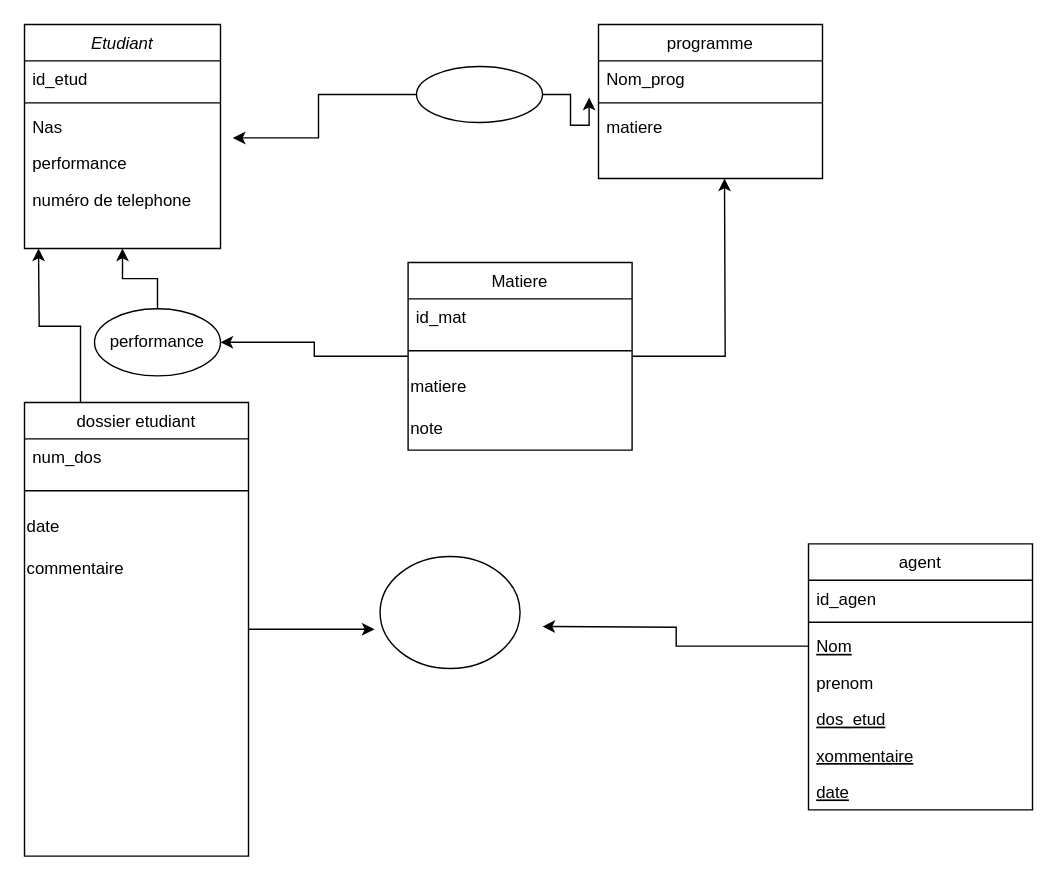
The diagram is 1057 pixels wide and 881 high, and some of its shapes have lost their labels. The shapes that lost their labels are listed below. From the top down, each one's centre as x and y in pixels, then its label:
the point at 478,93: Etudie
the point at 449,611: consutlt et commente
